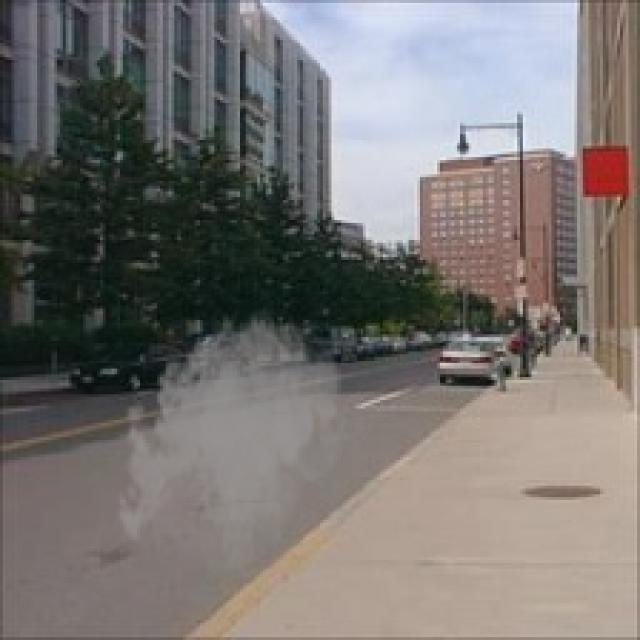smoke: (111, 306, 366, 580)
